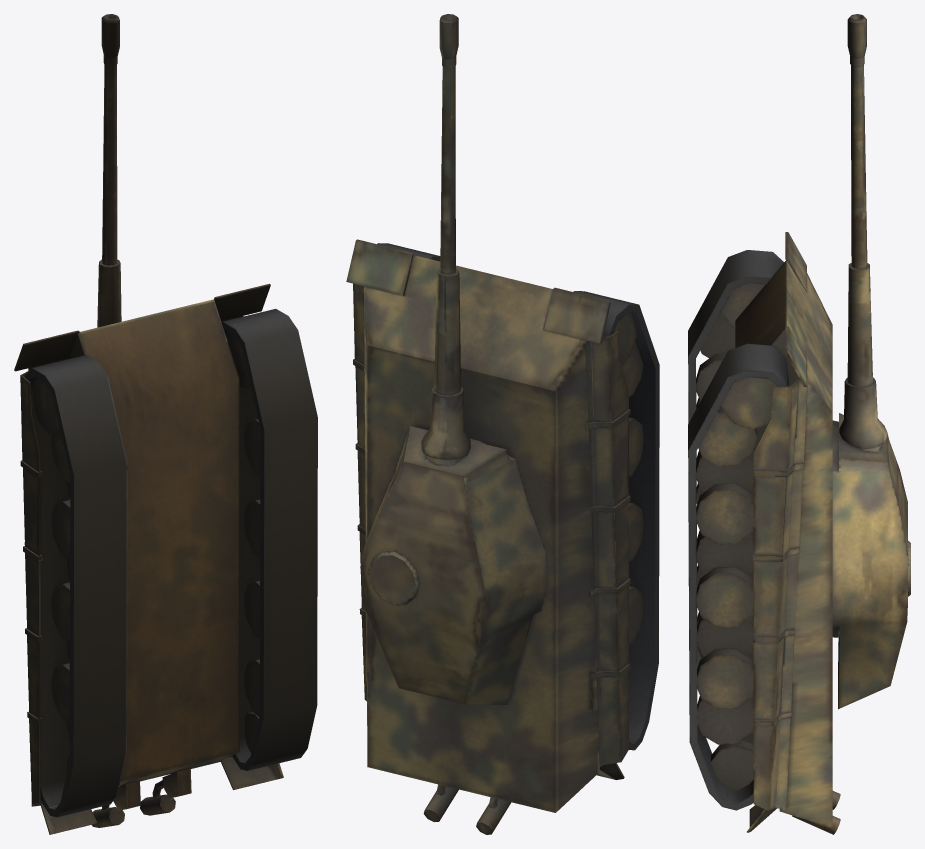
3 views of the same model, side by side, from view 1: azimuth 30°, elevation 25°; view 2: azimuth 150°, elevation 25°; view 3: azimuth 270°, elevation 25° (orthographic). The views are drawn at different scales.
Parts seen in each view (by area): view 1: E-75 Body, E-75 Turret; view 2: E-75 Body, E-75 Turret; view 3: E-75 Body, E-75 Turret.
Boxes of the visible parts, bbox=[...] form: E-75 Body: bbox=[14, 283, 317, 834]; E-75 Turret: bbox=[24, 14, 121, 544]; E-75 Body: bbox=[346, 239, 659, 834]; E-75 Turret: bbox=[360, 14, 546, 704]; E-75 Body: bbox=[688, 232, 840, 834]; E-75 Turret: bbox=[832, 14, 910, 709].
Size of the model in its own units: 147 by 444 by 112.
